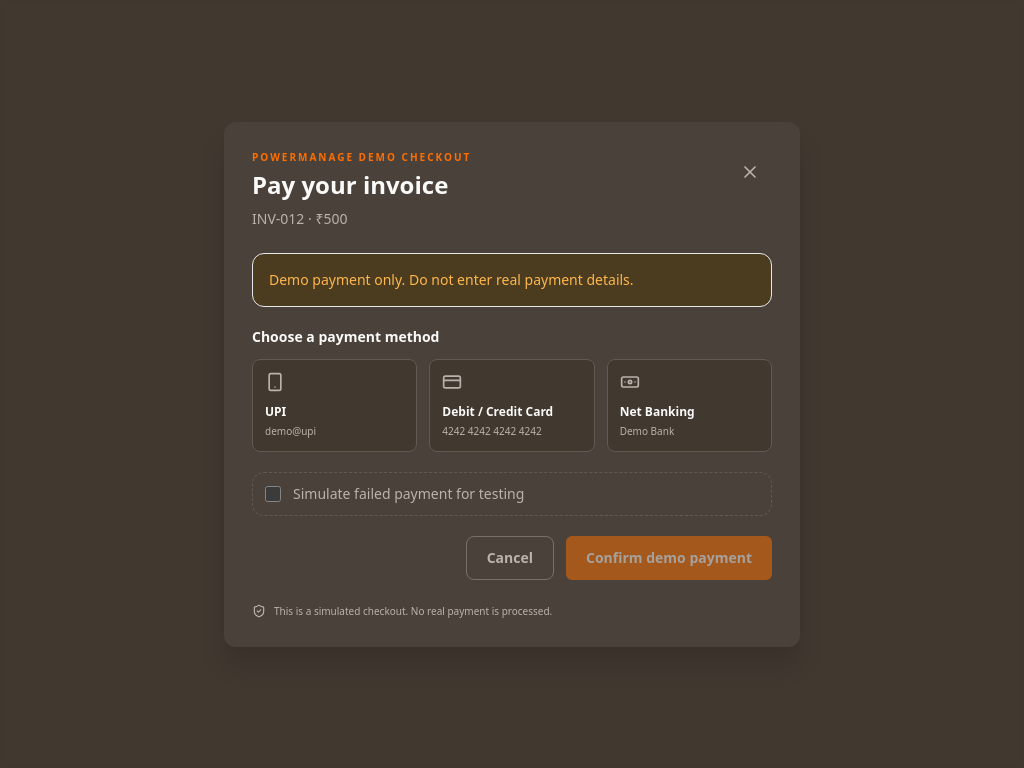
DemoPaymentModal › records a failed attempt without making the bill paid
The width and height of the screenshot is (1024, 768).
Click the button "Debit / Credit Card 4242 4242 4242 4242" at [512, 405], box x1=429 y1=358 x2=595 y2=452
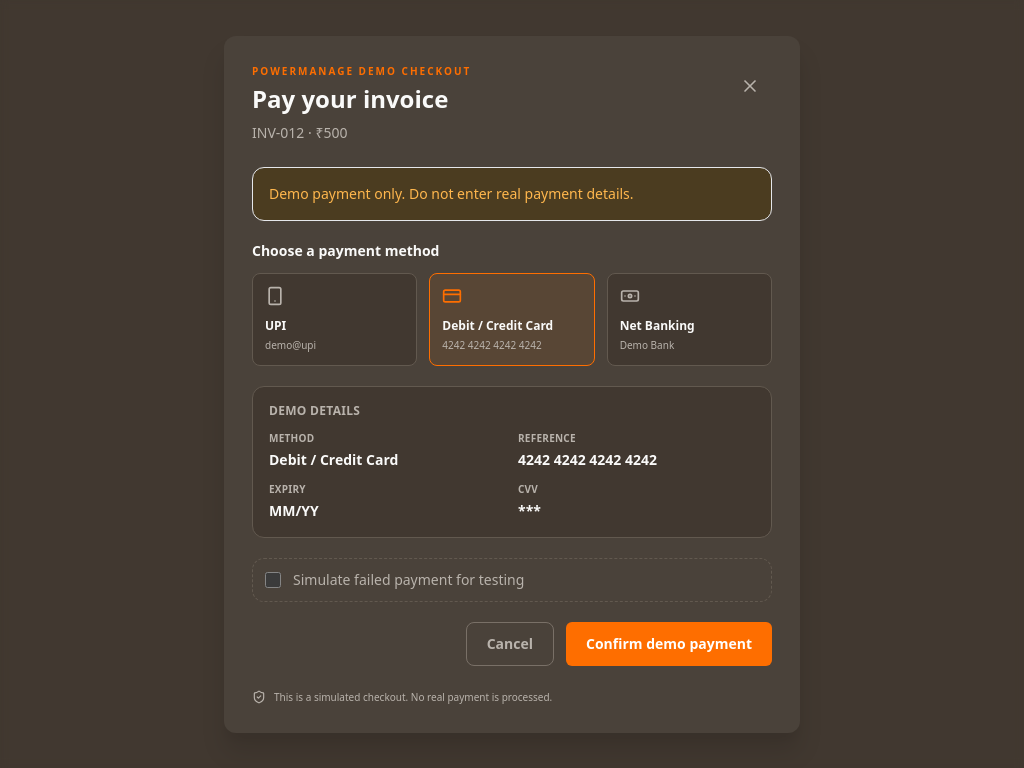
Click the checkbox labelled "Simulate failed payment for testing" at [273, 580], box x1=265 y1=572 x2=281 y2=588
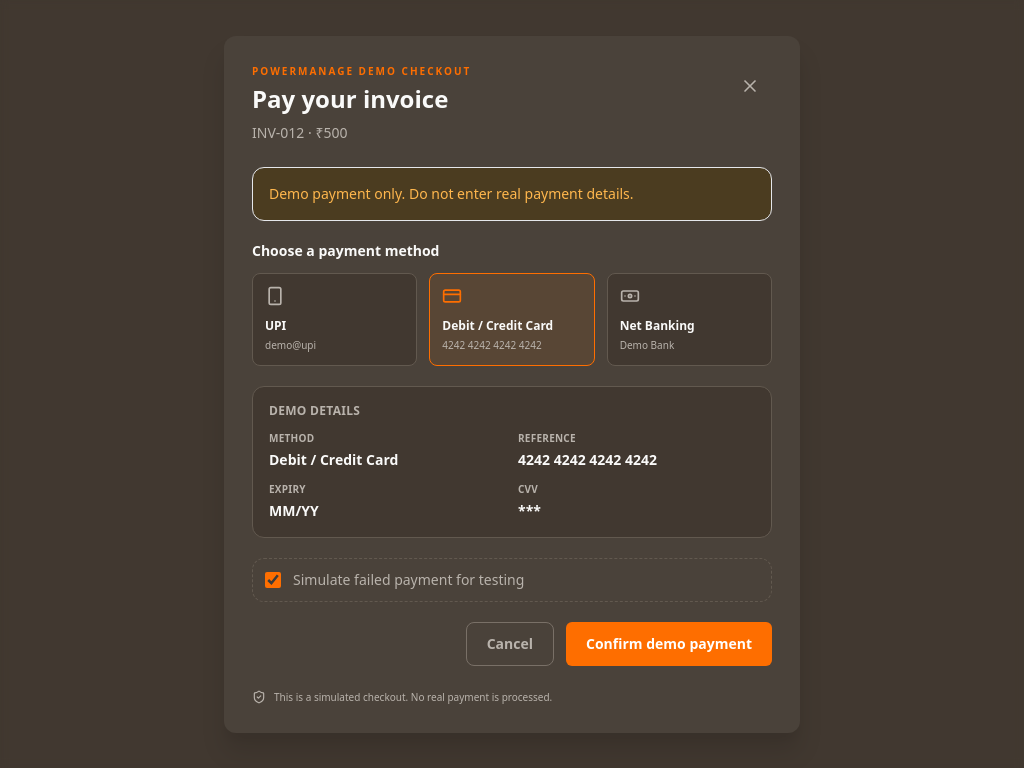
Click the button "Confirm demo payment" at [669, 644], box x1=566 y1=622 x2=772 y2=666
Wait 1400 ms
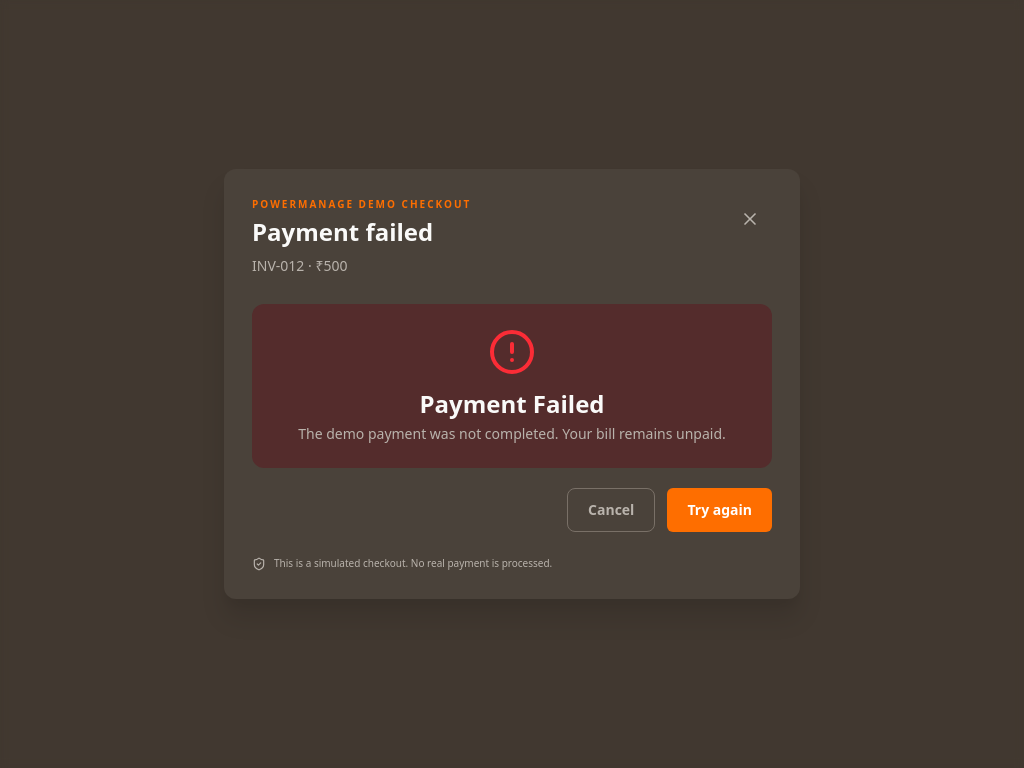
Result: the heading "Payment Failed" is shown at x1=420 y1=388 x2=605 y2=420
Result: the text "Your bill remains unpaid" is shown at x1=298 y1=424 x2=726 y2=443
Result: the button "Try again" is shown at x1=667 y1=488 x2=772 y2=532
